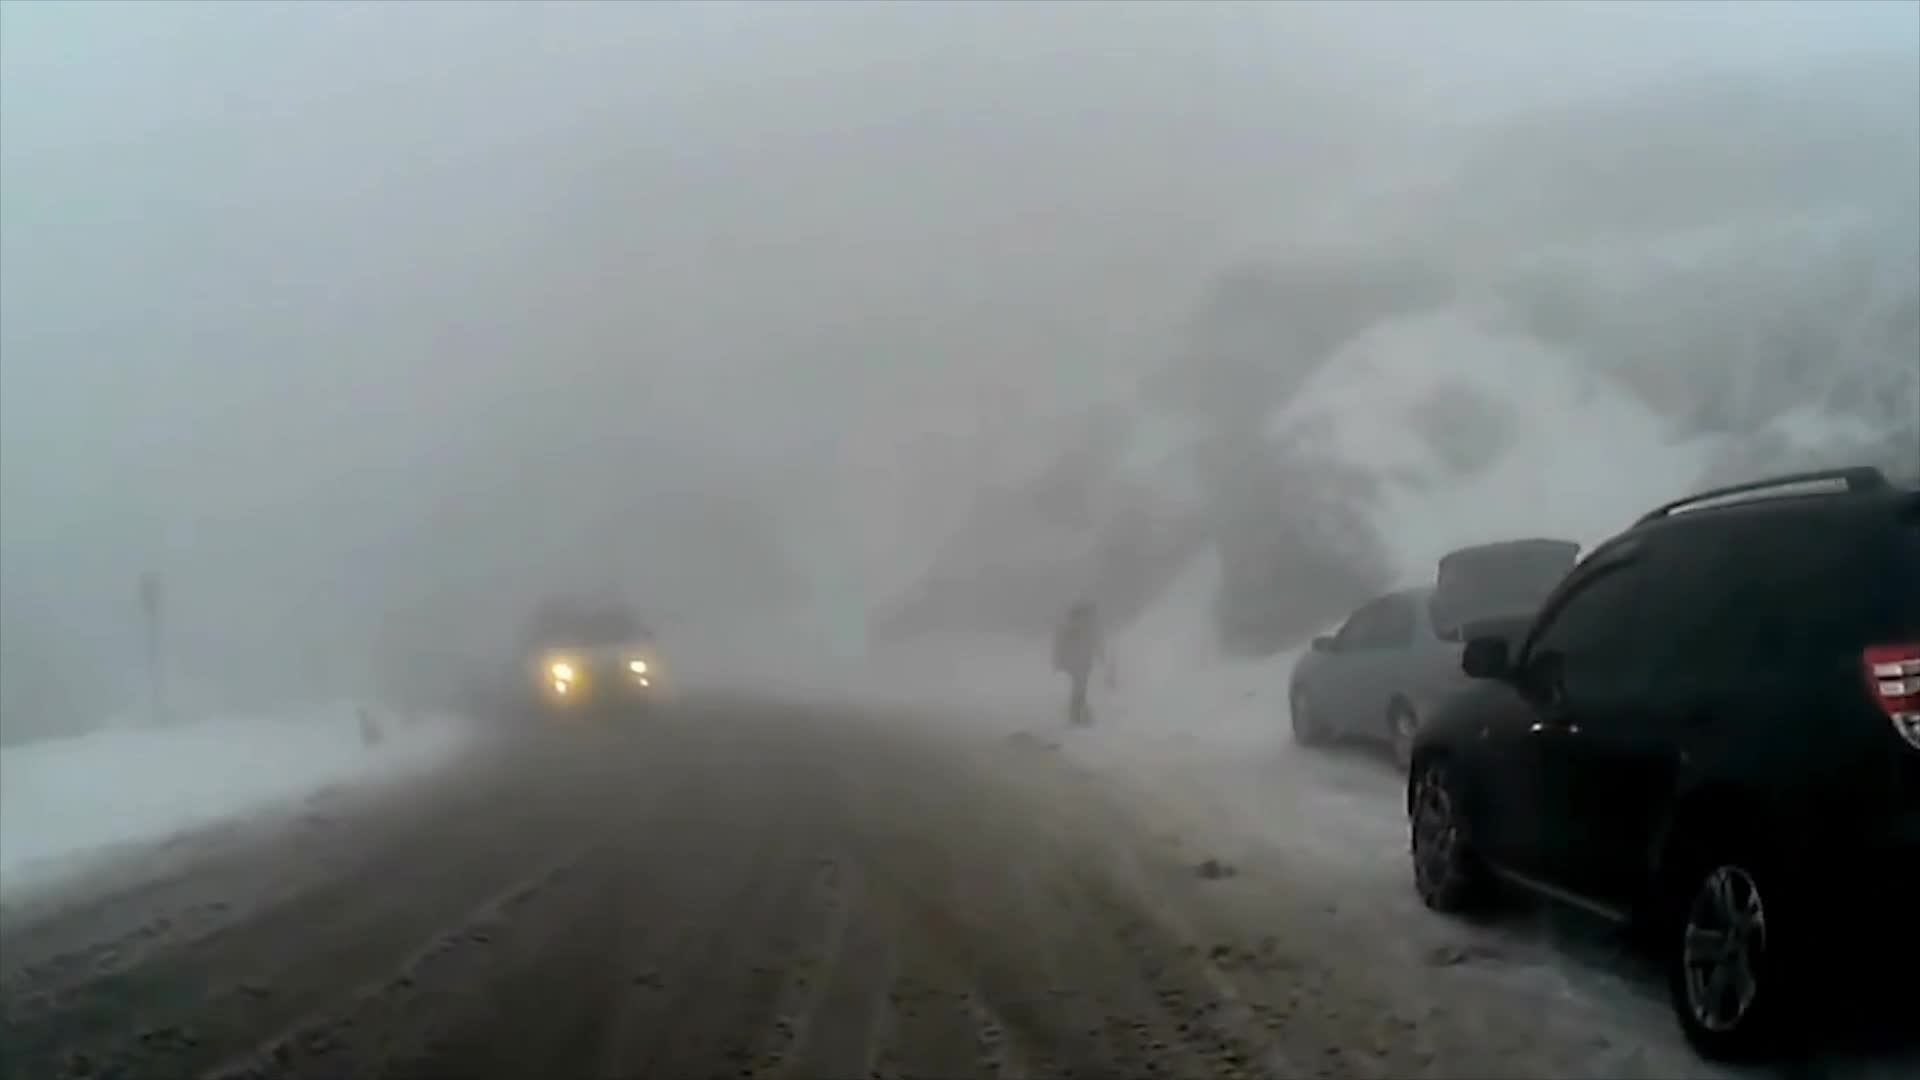pedestrian: (1057, 600, 1105, 725)
vehicle: (1404, 462, 1920, 1071), (1285, 538, 1629, 778), (523, 586, 661, 723)
